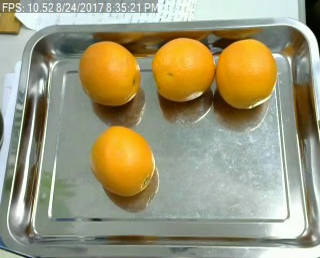Orange: (88, 124, 155, 196), (215, 39, 276, 109), (79, 41, 141, 106), (152, 38, 215, 101)
